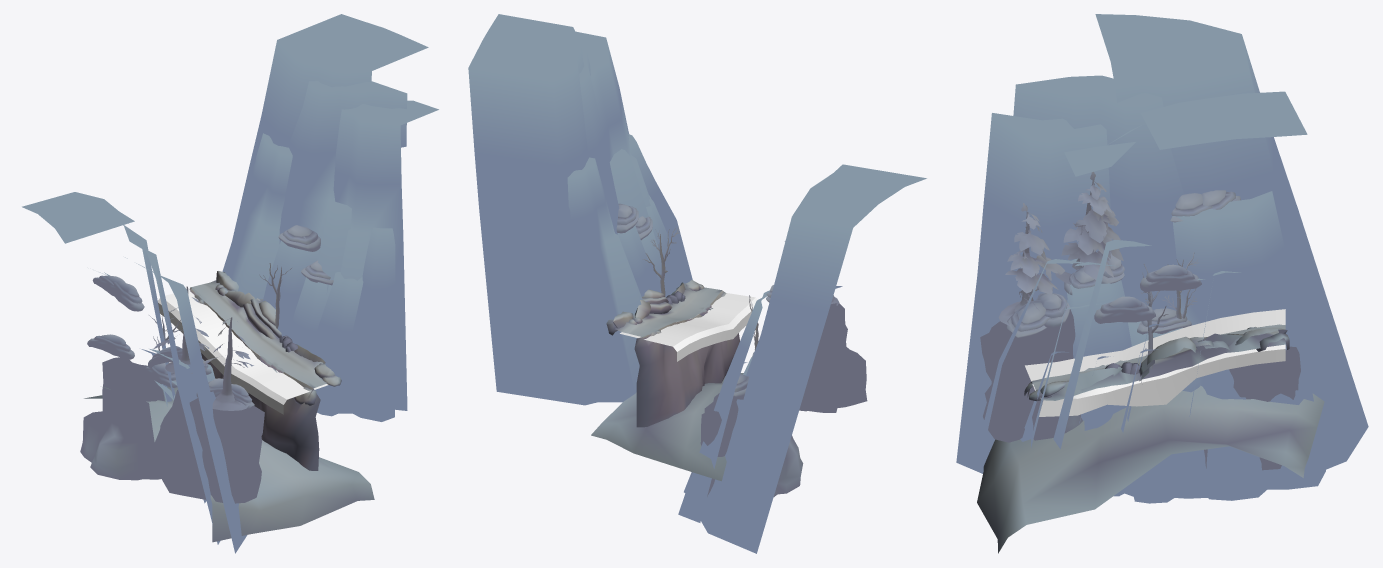
Rendered from Arctic_Narrows_Left_Curve_Left_10_A.glb.
3 views of the same model, side by side, from view 1: azimuth 30°, elevation 25°; view 2: azimuth 150°, elevation 25°; view 3: azimuth 270°, elevation 25° (orthographic). The views are drawn at different scales.
Visible parts, largest first — view 1: Arctic_Narrows_Left_Curve_Left_10_A, inv_fill; view 2: Arctic_Narrows_Left_Curve_Left_10_A, inv_fill; view 3: Arctic_Narrows_Left_Curve_Left_10_A, inv_fill.
Boxes of the visible parts, bbox=[...] form: Arctic_Narrows_Left_Curve_Left_10_A: bbox=[22, 14, 438, 553]; inv_fill: bbox=[157, 289, 328, 414]; Arctic_Narrows_Left_Curve_Left_10_A: bbox=[468, 14, 926, 553]; inv_fill: bbox=[620, 293, 757, 361]; Arctic_Narrows_Left_Curve_Left_10_A: bbox=[956, 14, 1368, 553]; inv_fill: bbox=[1025, 309, 1285, 416].
Size of what is drawn, in the model's own units: 24.3 by 22.78 by 17.6.
